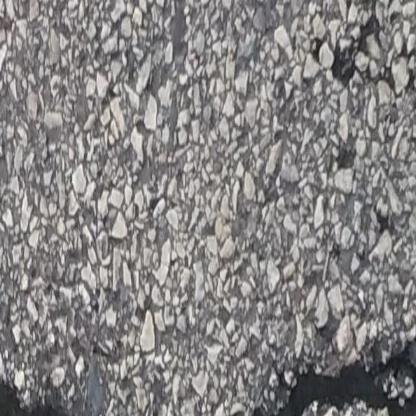Cracks: (216, 345, 416, 416), (0, 375, 116, 416)
